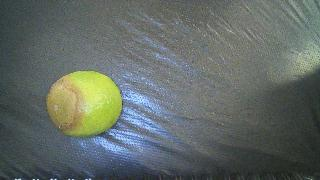DESECHO: (46, 71, 122, 137)
